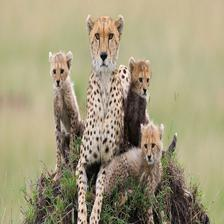Cheetah: (75, 14, 143, 224), (97, 121, 172, 223), (47, 49, 93, 184), (117, 54, 158, 152)
